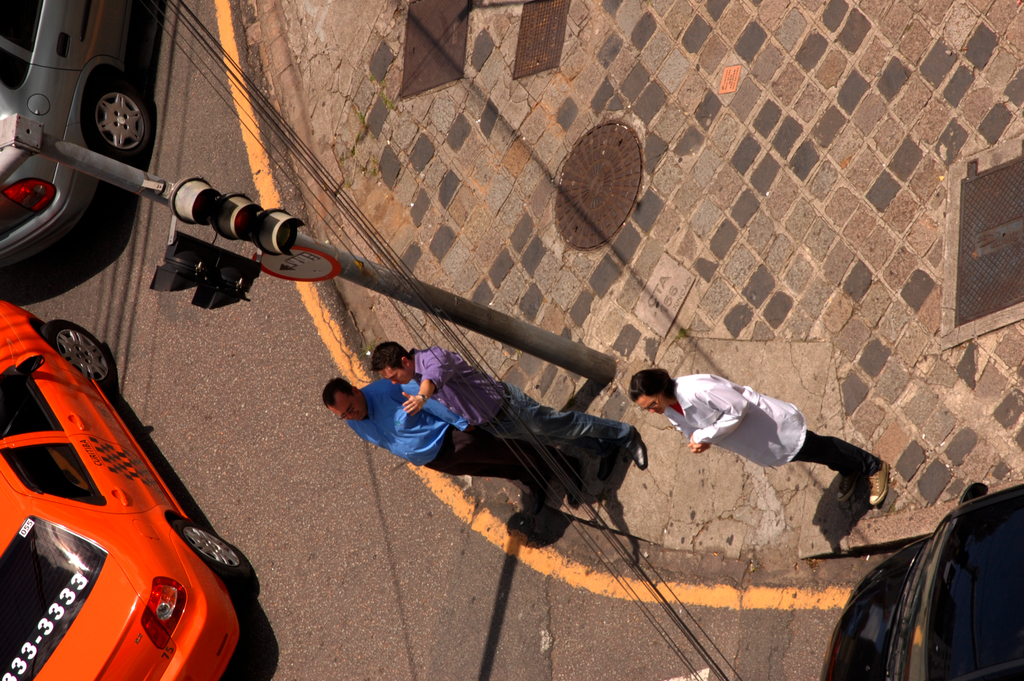cars: (0, 296, 254, 680), (0, 0, 156, 272), (819, 478, 1023, 679)
